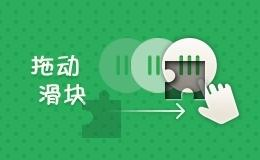target: (145, 42, 185, 80)
